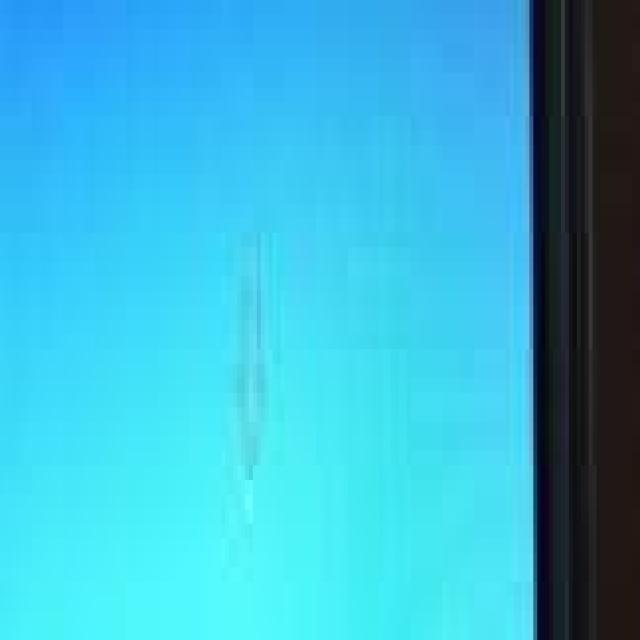dead_pixel: (240, 228, 273, 520)
